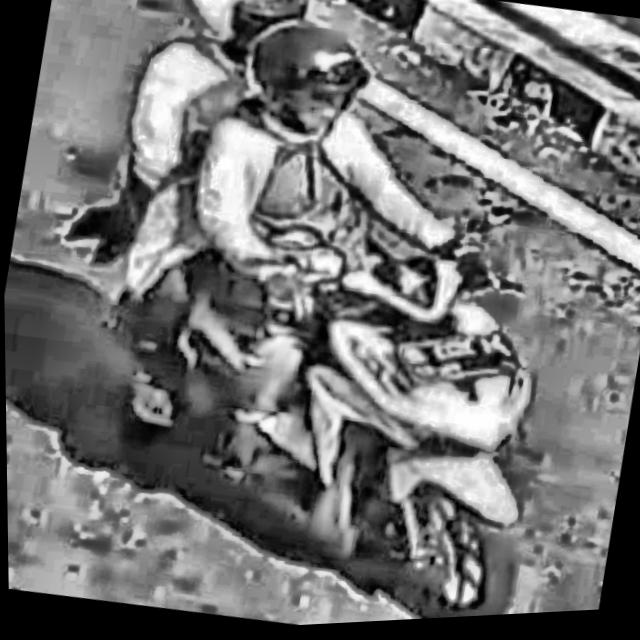motorcycle: (12, 129, 576, 640)
